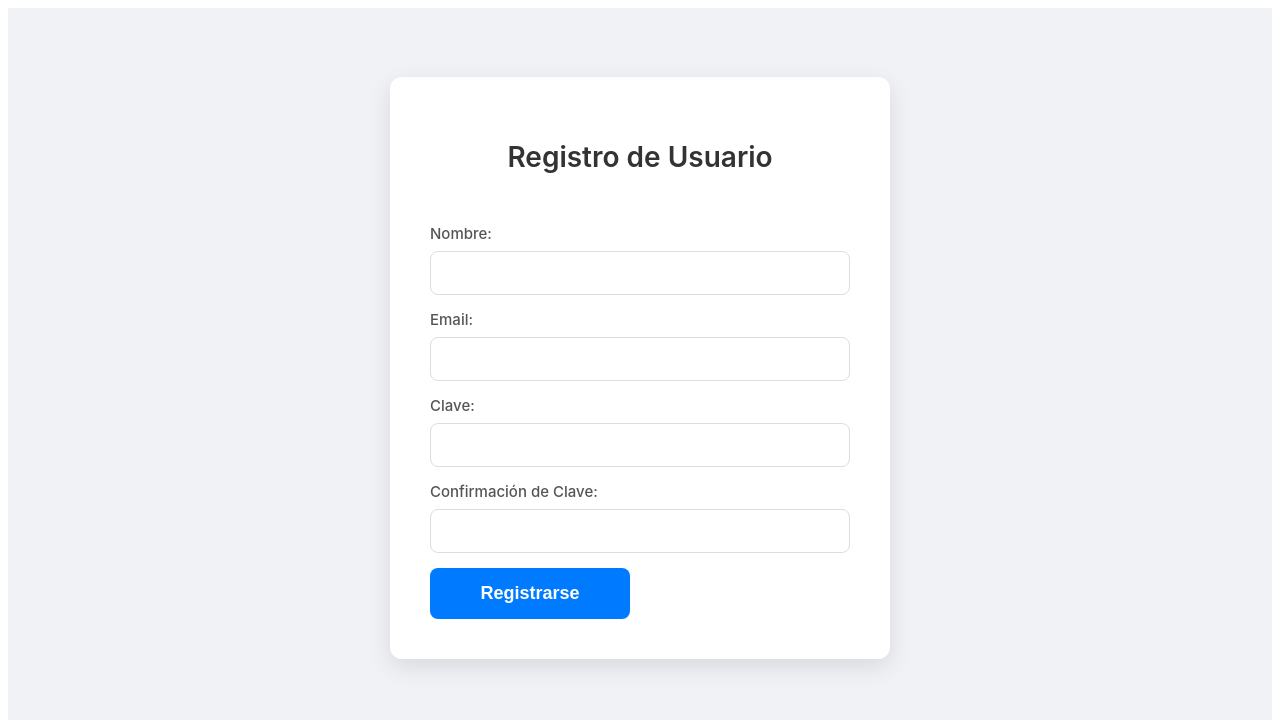
Test: Escenario 2: Registro Fallido por Falta de Datos Obligatorios › Debe mostrar mensajes de error cuando se omiten campos obligatorios
In the field with id "email": [640, 359] box top-left (430, 337), bottom-right (850, 381), type "test@example.com"
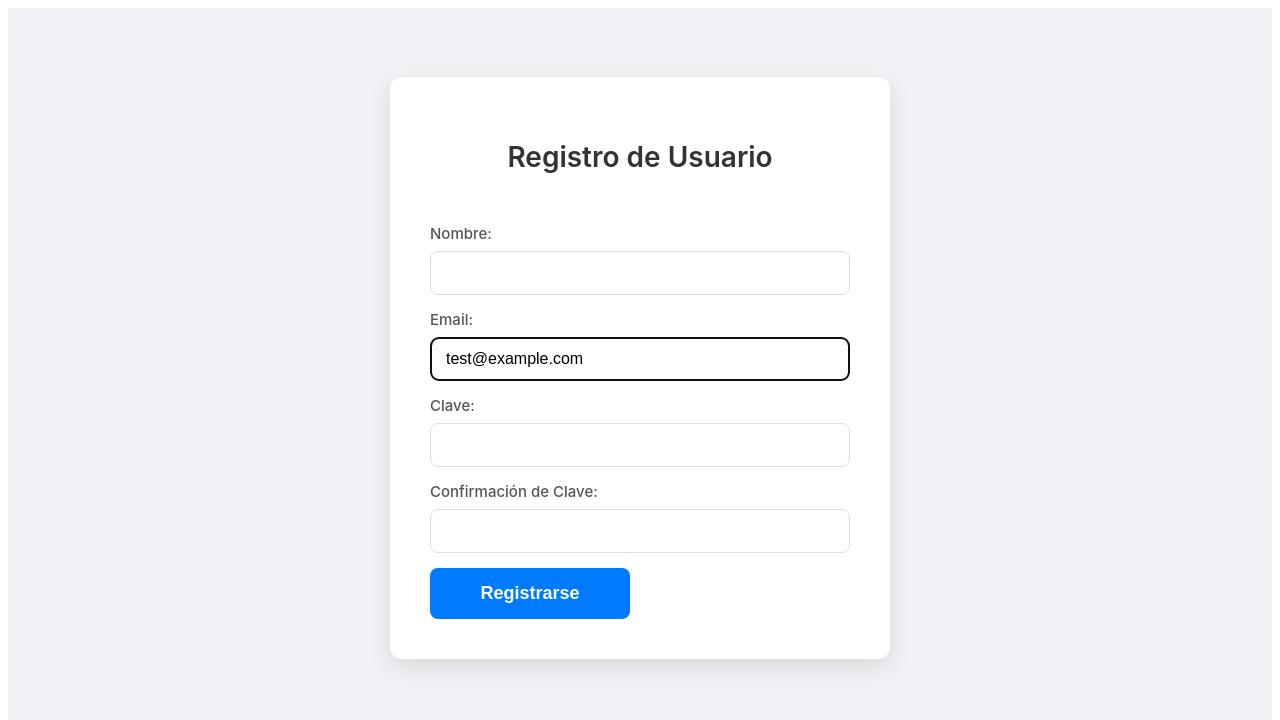
In the password field labelled "Clave:": [640, 445] box top-left (430, 423), bottom-right (850, 467), type "MiClave123"
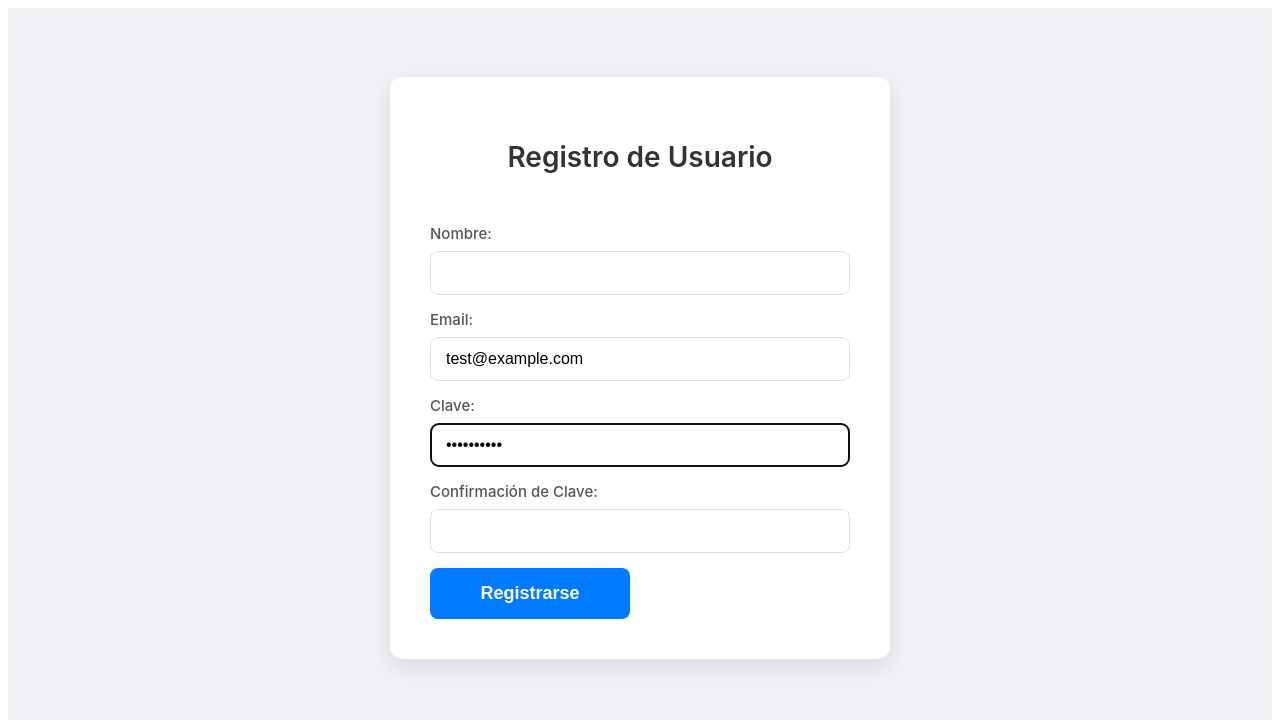
In the password field with id "confirmPassword": [640, 531] box top-left (430, 509), bottom-right (850, 553), type "MiClave123"
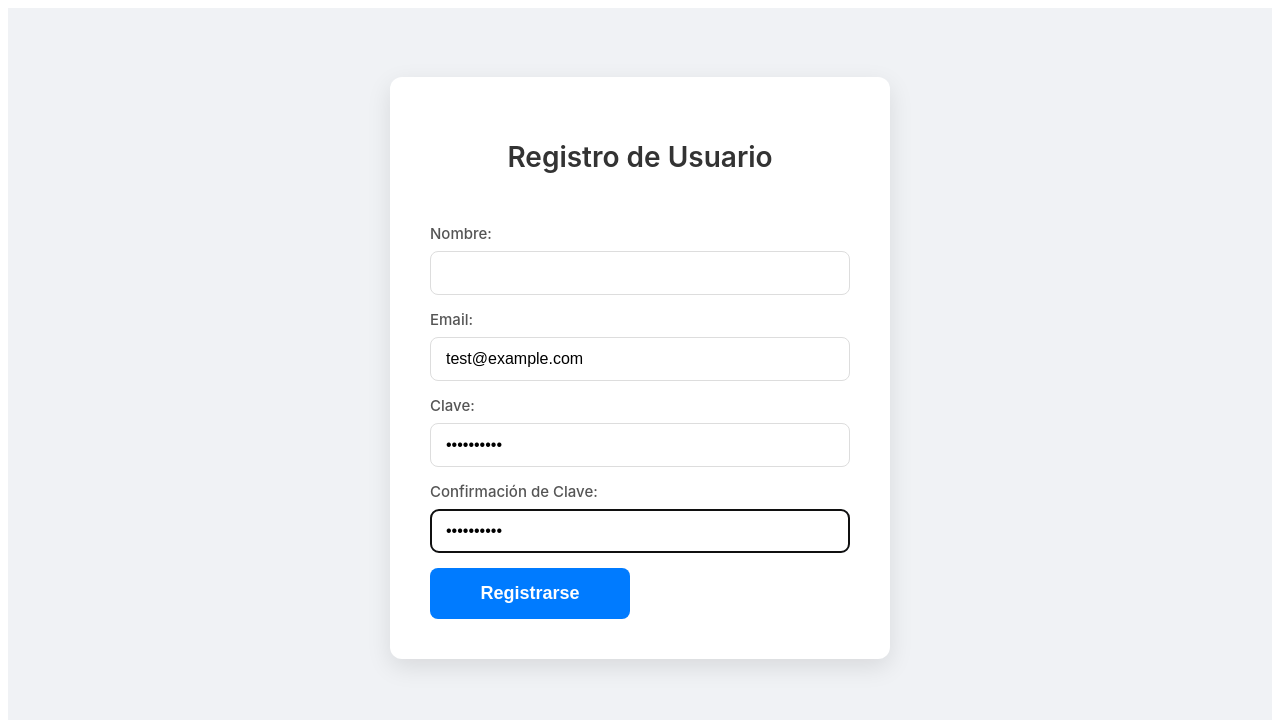
Click the button "Registrarse": [530, 594] box top-left (430, 568), bottom-right (630, 619)
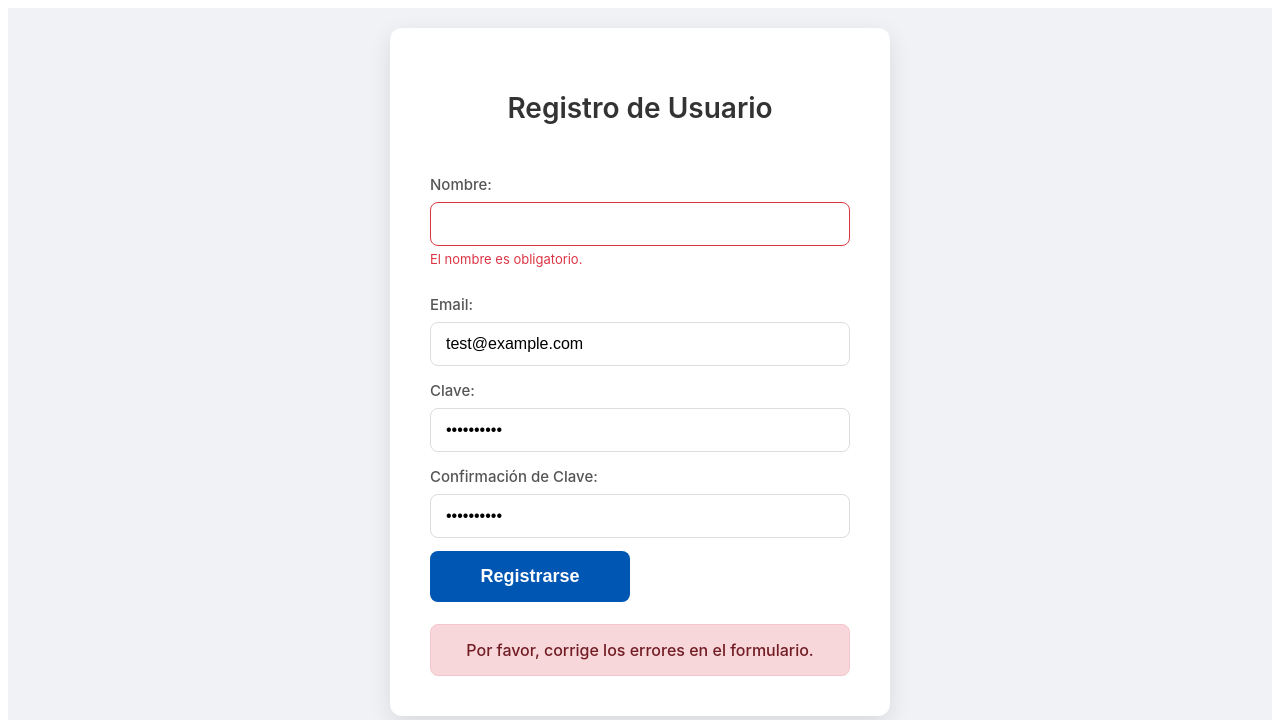
expect the text "El nombre es obligatorio." is shown: met, box top-left (430, 251), bottom-right (582, 267)
expect the text "Por favor, corrige los errores en el formulario." is shown: met, box top-left (430, 624), bottom-right (850, 676)
